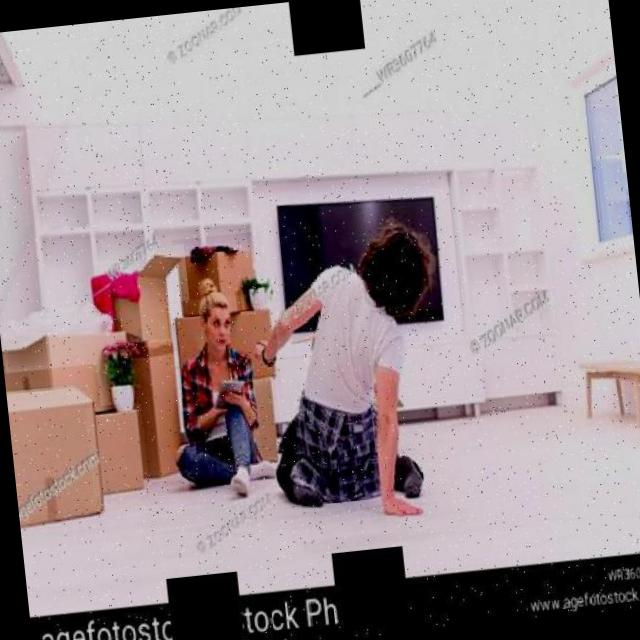box: (3, 362, 112, 526), (165, 290, 282, 402), (0, 310, 123, 415), (100, 243, 194, 357), (116, 340, 187, 481), (172, 230, 268, 324), (84, 402, 150, 497), (242, 374, 280, 468)
